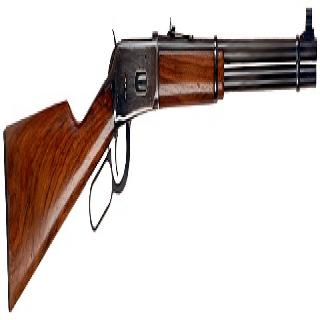gun: (1, 14, 318, 308)
